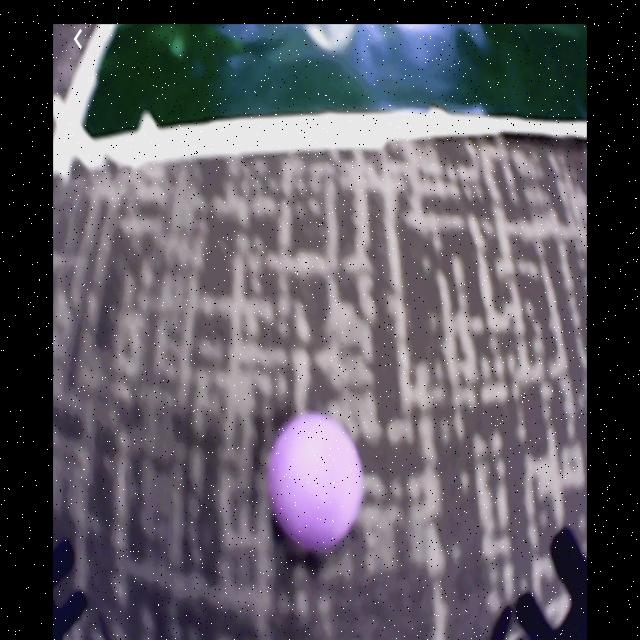ball: (266, 413, 367, 554)
